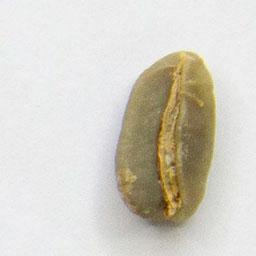longberry: (110, 46, 220, 227)
